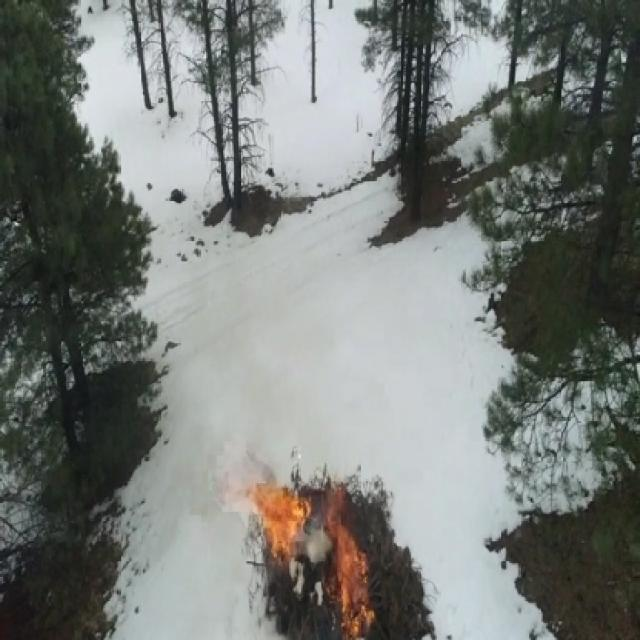Fire: (341, 573, 374, 640), (267, 488, 292, 562), (253, 484, 296, 512), (282, 496, 314, 526), (326, 486, 345, 533), (337, 530, 354, 575), (348, 547, 369, 581)
